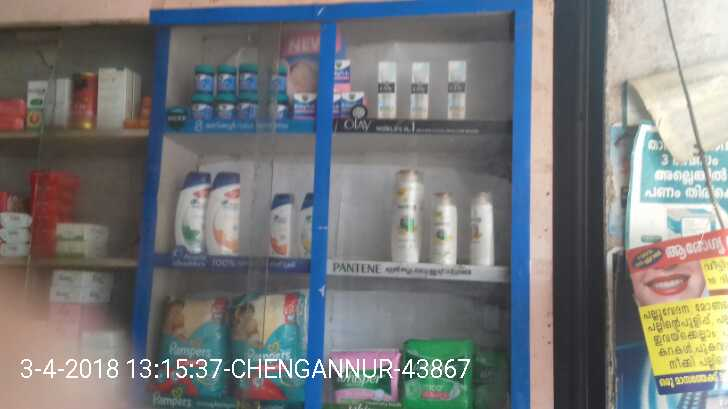vicks: (189, 59, 316, 119), (338, 62, 366, 116)
